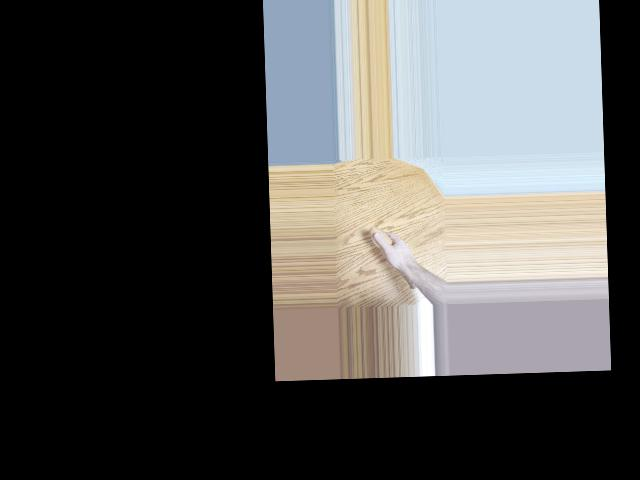sweet_potato: (369, 225, 417, 292)
